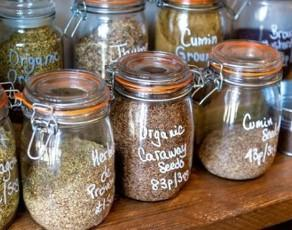glass: (21, 71, 114, 229), (111, 53, 196, 200), (194, 60, 282, 178), (67, 0, 146, 85), (0, 1, 61, 111), (155, 1, 229, 73), (234, 0, 290, 76), (0, 83, 21, 225)
